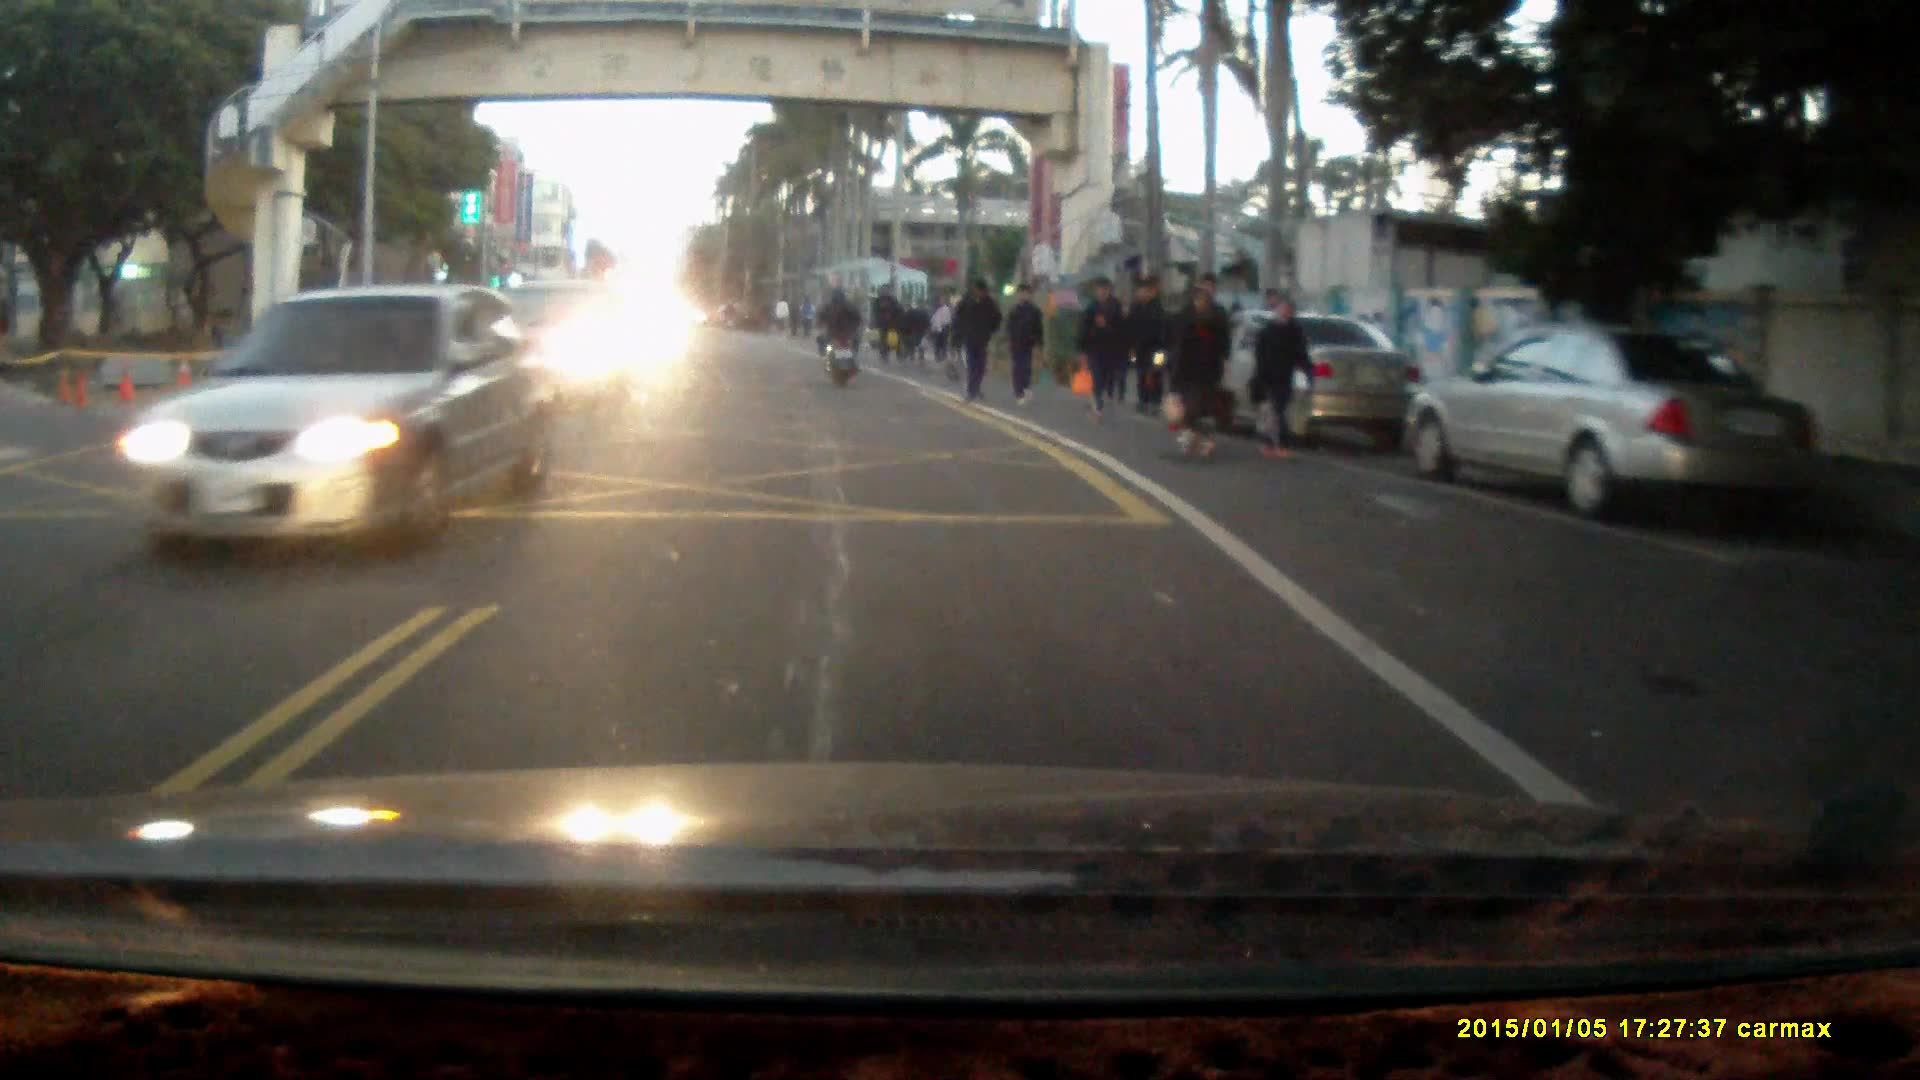pedestrian: (1247, 289, 1317, 459), (1171, 284, 1230, 453), (1073, 277, 1123, 427), (952, 274, 1004, 401), (1001, 278, 1048, 405), (1132, 271, 1174, 412), (868, 282, 898, 364), (926, 288, 954, 366), (892, 292, 921, 366)
rider: (815, 283, 864, 387)
vehicle: (109, 282, 558, 560), (1402, 318, 1821, 519), (1168, 312, 1429, 439)
